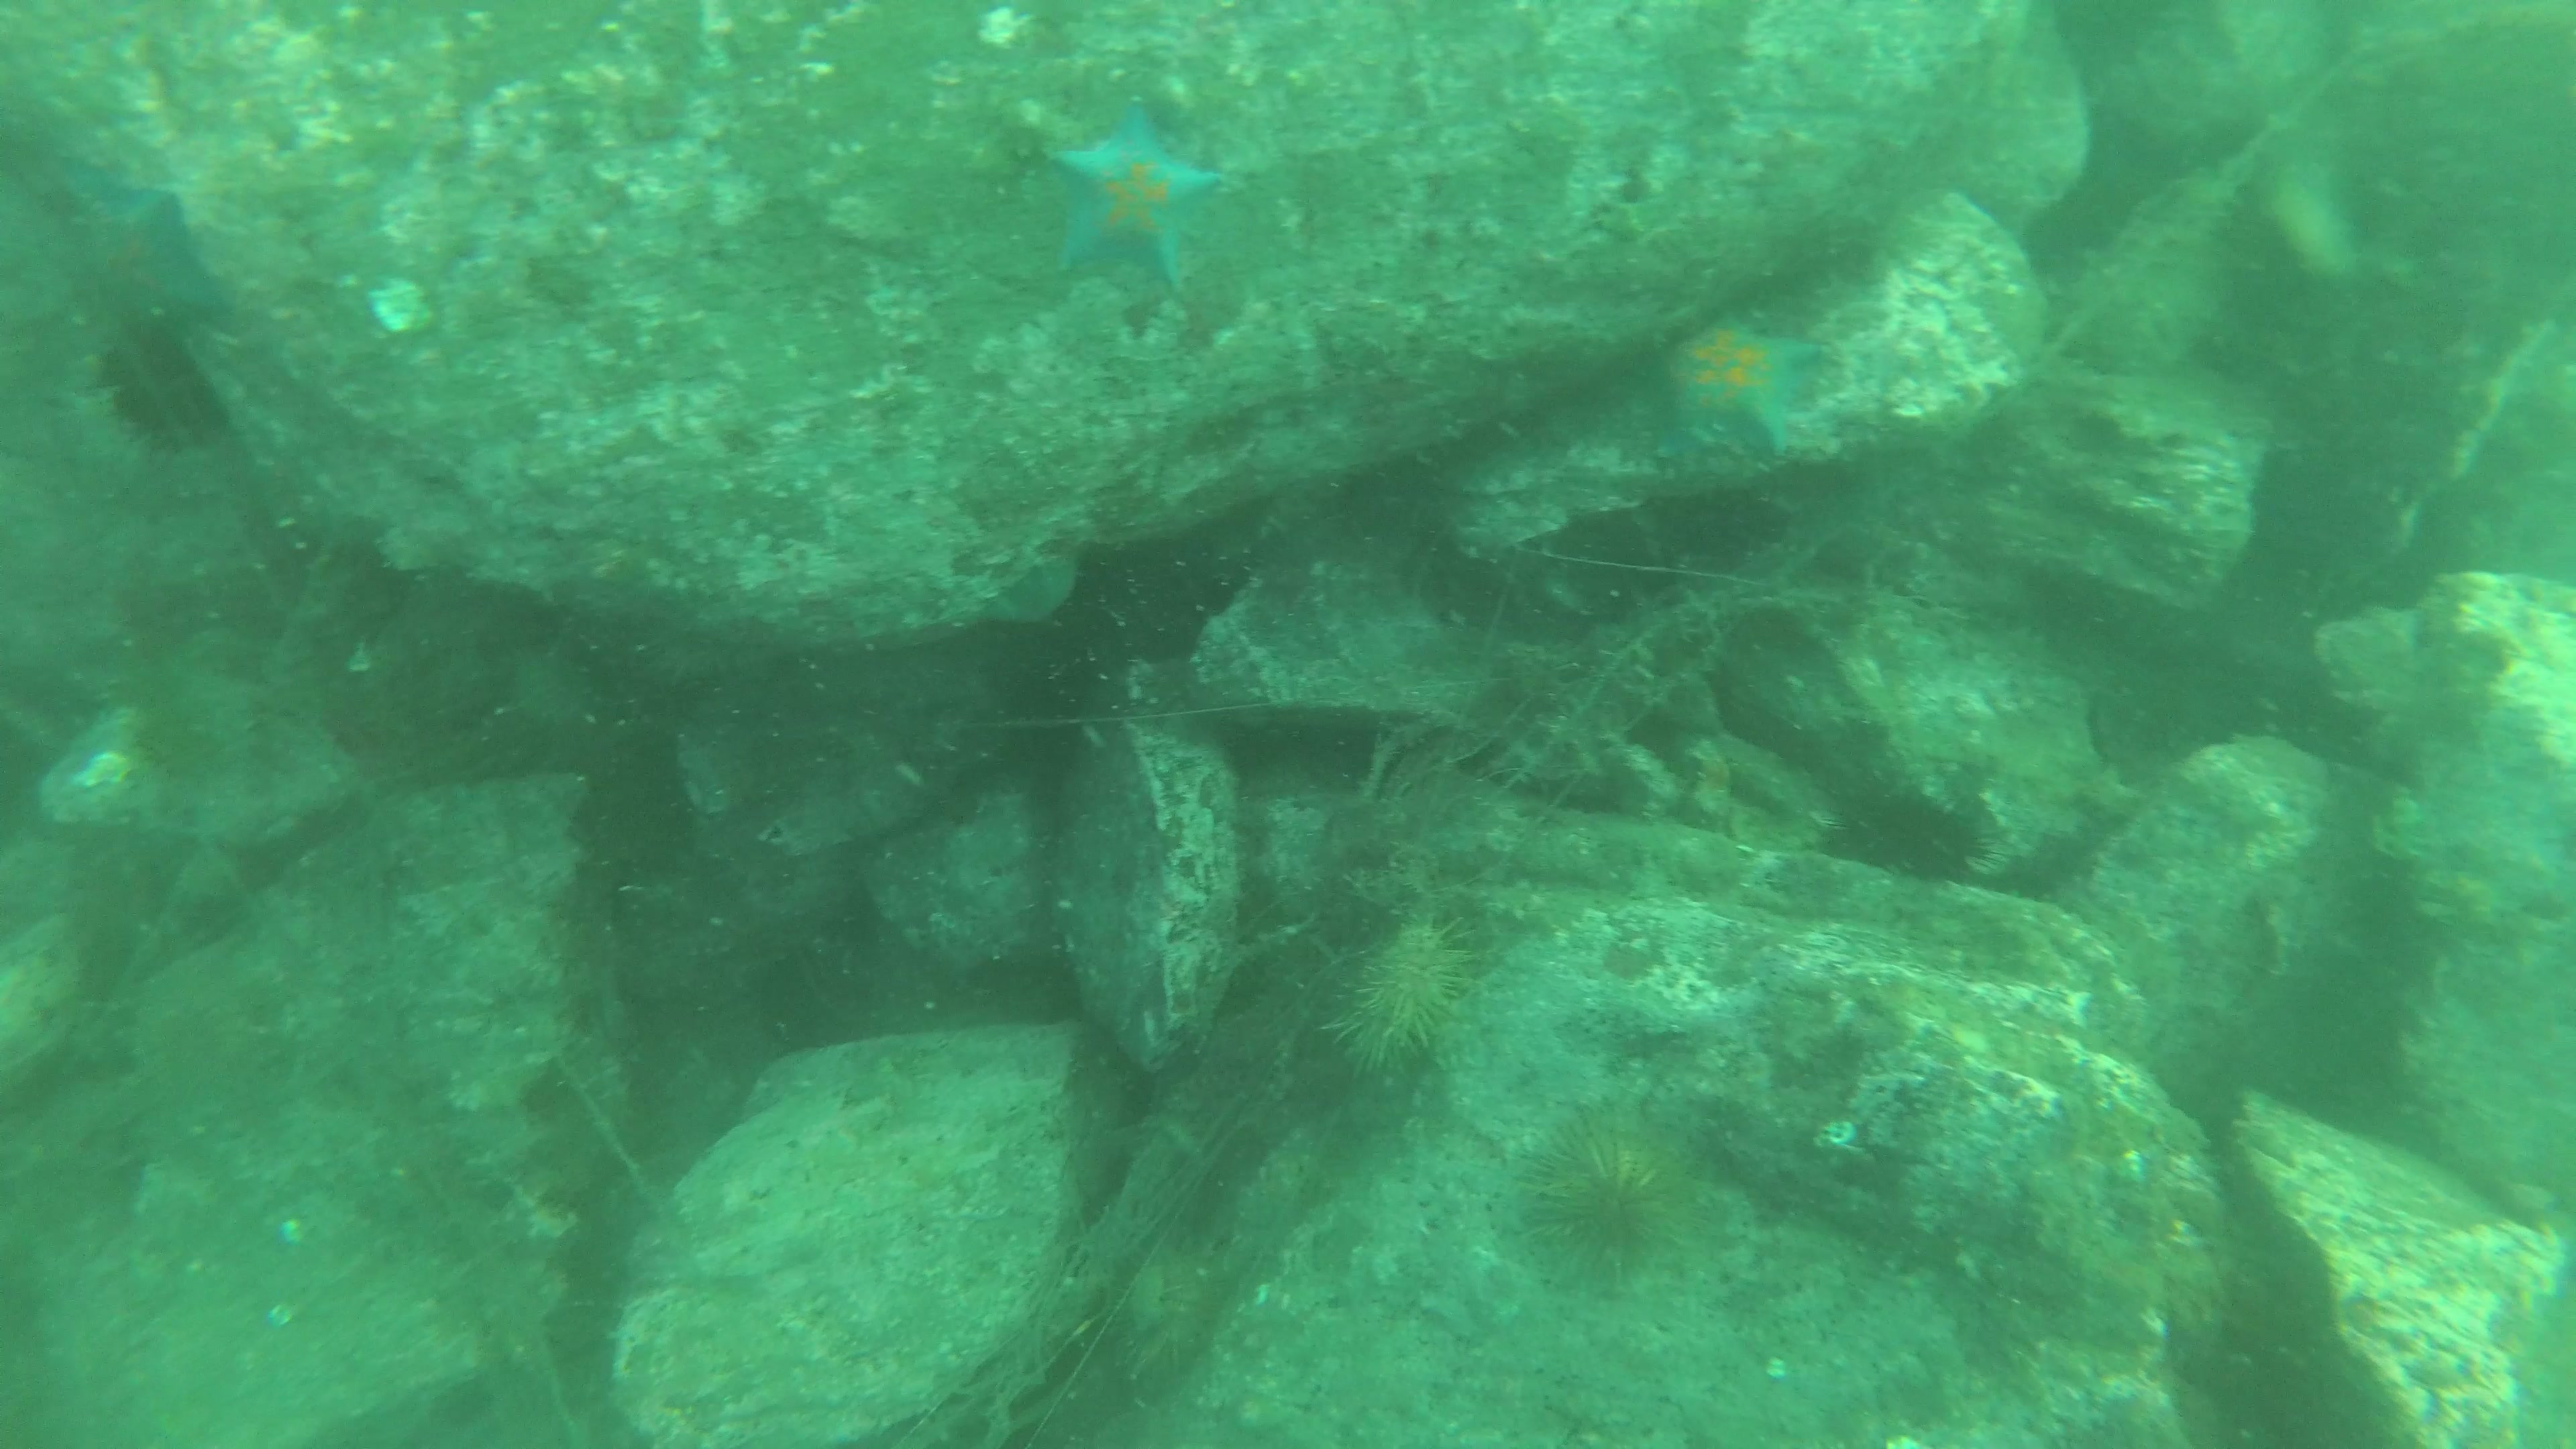echinus: (1513, 1104, 1711, 1316), (1320, 915, 1484, 1102), (76, 317, 232, 465), (1108, 1226, 1238, 1387), (1821, 778, 2005, 892)
starfish: (1039, 99, 1235, 283), (42, 149, 228, 331), (1647, 297, 1828, 478)
